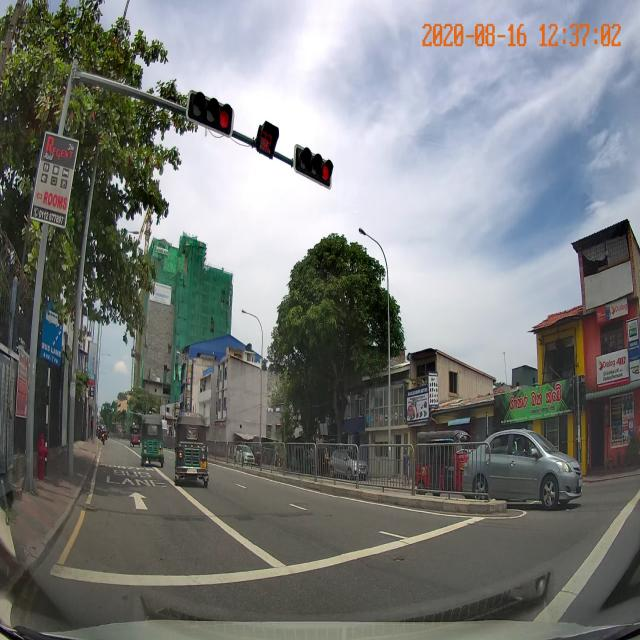diamond: (75, 488, 219, 527)
